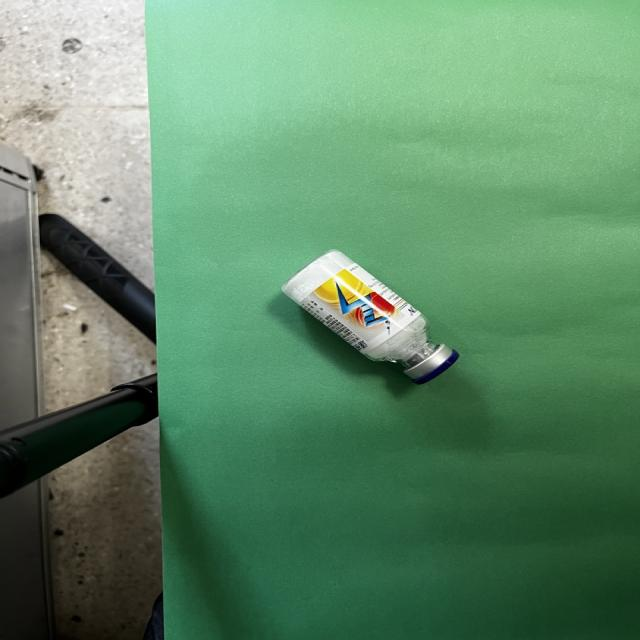Vials: (281, 250, 459, 386)
